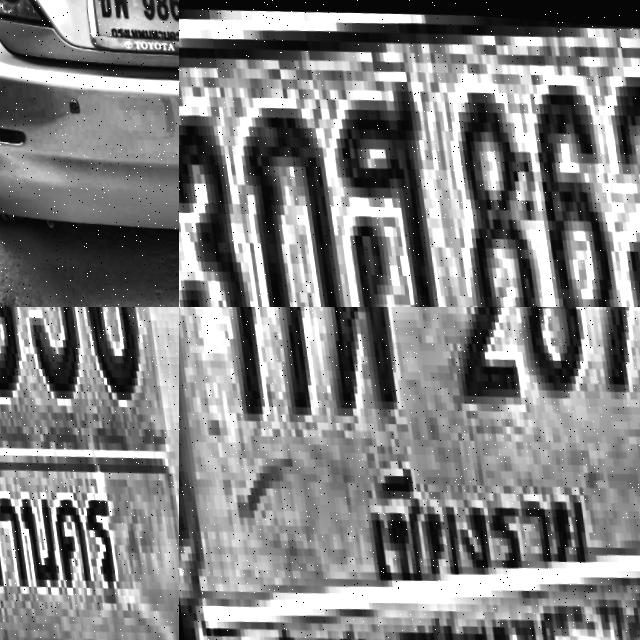license-plate: (179, 307, 640, 640), (179, 0, 640, 307), (0, 307, 179, 640), (69, 0, 179, 66)
